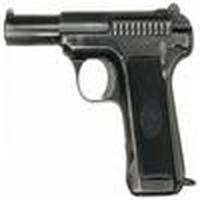gun: (1, 8, 199, 197)
